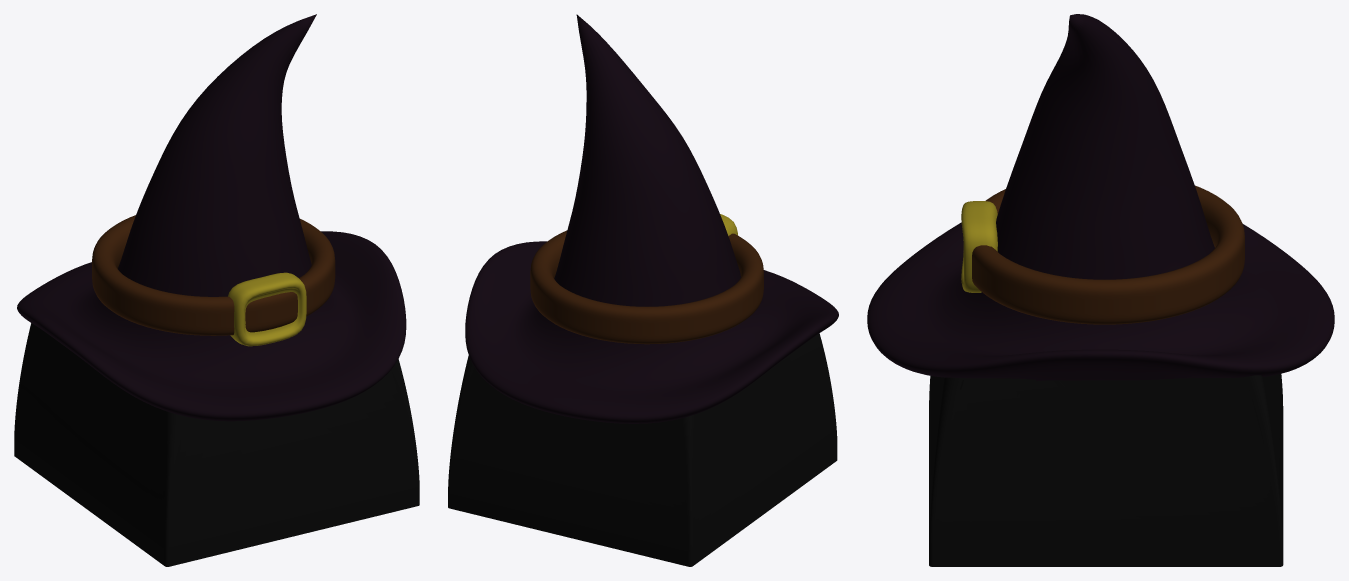
Rendered from Artisan_Mage.FBX.
3 renders of one model, left to right at view 1: azimuth 30°, elevation 25°; view 2: azimuth 150°, elevation 25°; view 3: azimuth 270°, elevation 25°, orthographic. The views are drawn at different scales.
Visible parts, largest first — view 1: Box001, _STL_BINARY_004; view 2: Box001, _STL_BINARY_004; view 3: Box001, _STL_BINARY_004.
Part boxes in pixels (x1=…): Box001: x1=17, y1=14, x2=406, y2=421; _STL_BINARY_004: x1=14, y1=323, x2=419, y2=566; Box001: x1=465, y1=14, x2=838, y2=423; _STL_BINARY_004: x1=448, y1=333, x2=837, y2=566; Box001: x1=867, y1=14, x2=1334, y2=381; _STL_BINARY_004: x1=929, y1=374, x2=1283, y2=566.
Bounding box in the file's own units: 22.26 × 29.92 × 24.03.
